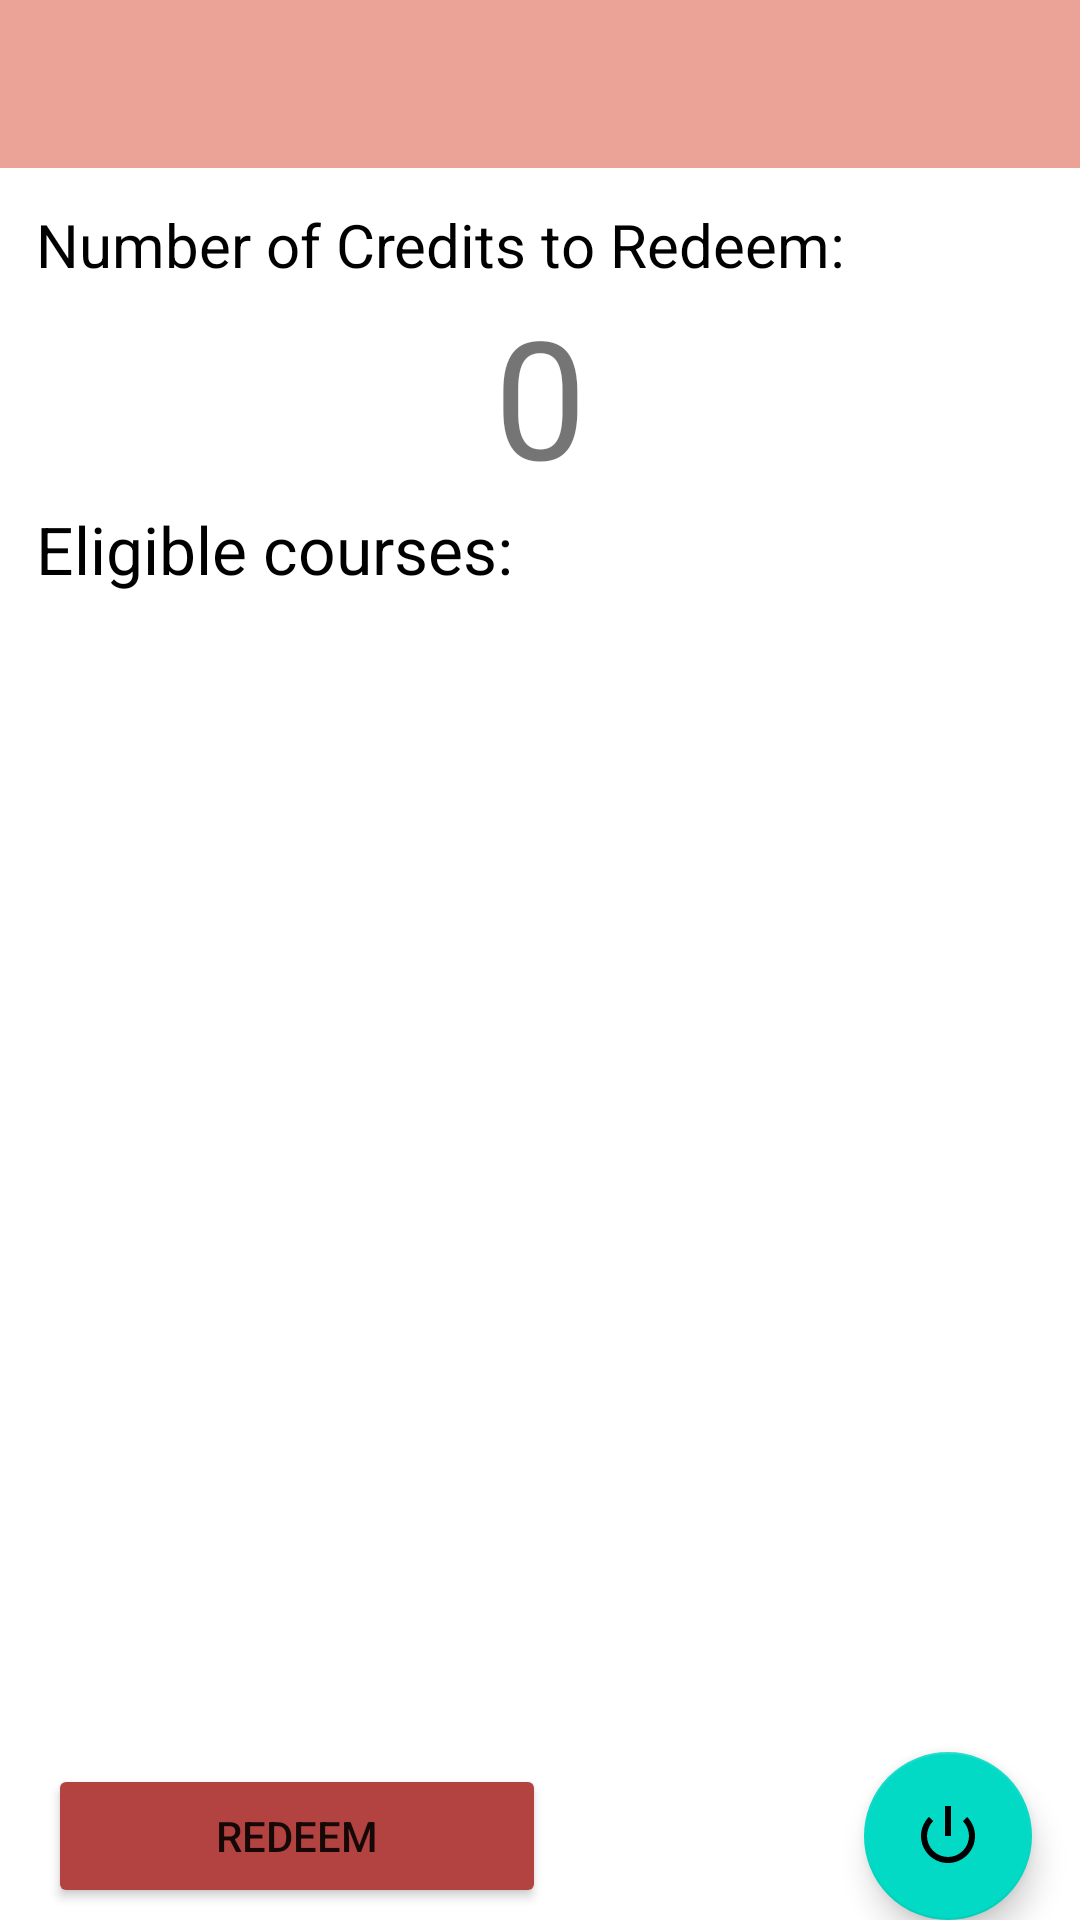

Where icons sit on this 1080w x 1920h app screen, as Rect(x1, y1, x2, y2):
lock power off: Rect(864, 1752, 1032, 1920)
